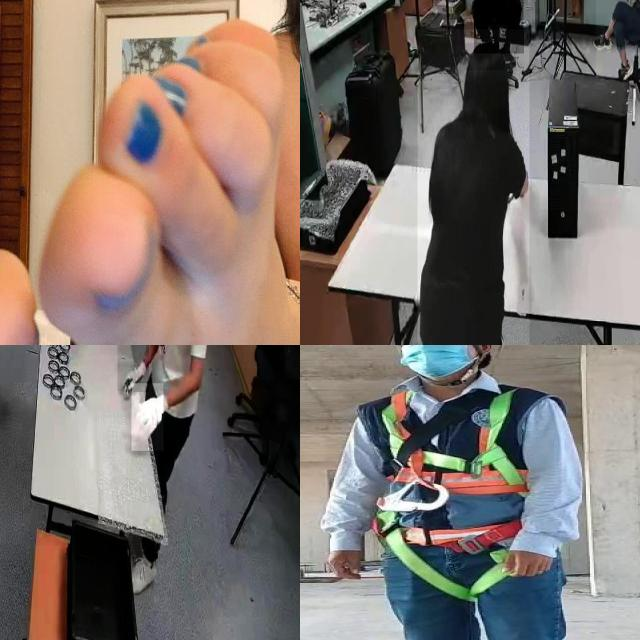Barefoots: (39, 19, 300, 345)
Harness: (368, 393, 552, 593)
hand_glove: (132, 383, 164, 452), (117, 345, 148, 392)
head_nohelmet: (464, 43, 506, 71)
person: (417, 29, 530, 345), (124, 345, 207, 594), (596, 0, 640, 78), (474, 0, 524, 53)
shoes: (122, 550, 158, 598), (592, 30, 612, 54)
